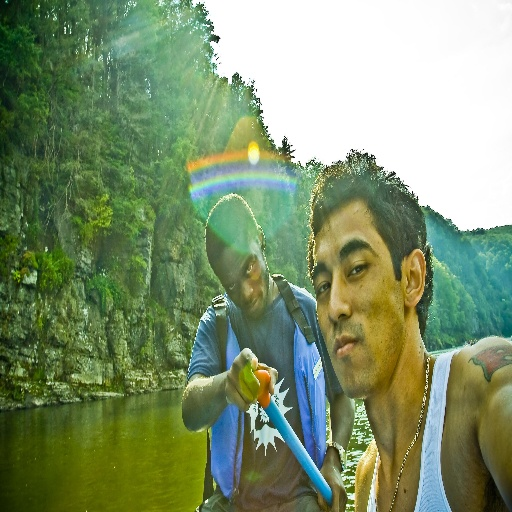hand: (223, 345, 279, 413), (315, 461, 350, 511)
